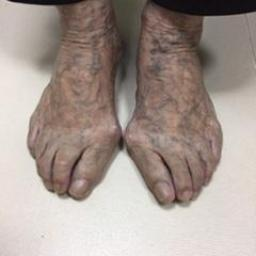Dorsal View -Both Feet-: (20, 4, 230, 220)
